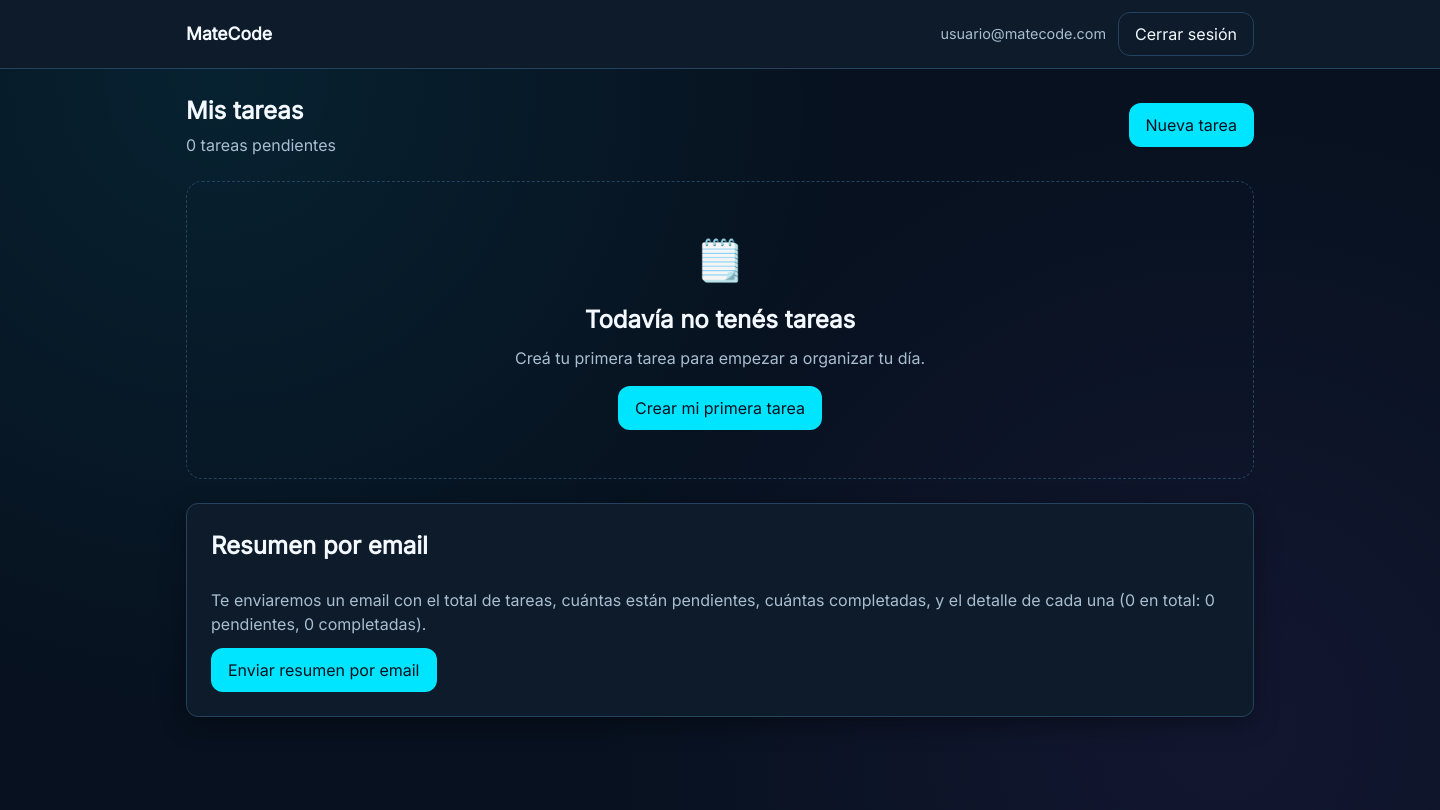
it: TasksPage › también abre el formulario desde el botón del estado vacío
This screenshot has width=1440, height=810.
Expected: the heading "Todavía no tenés tareas" is shown, x1=585 y1=305 x2=855 y2=334
Click the button "Crear mi primera tarea". click: x=720, y=408
box: x1=618 y1=386 x2=822 y2=430
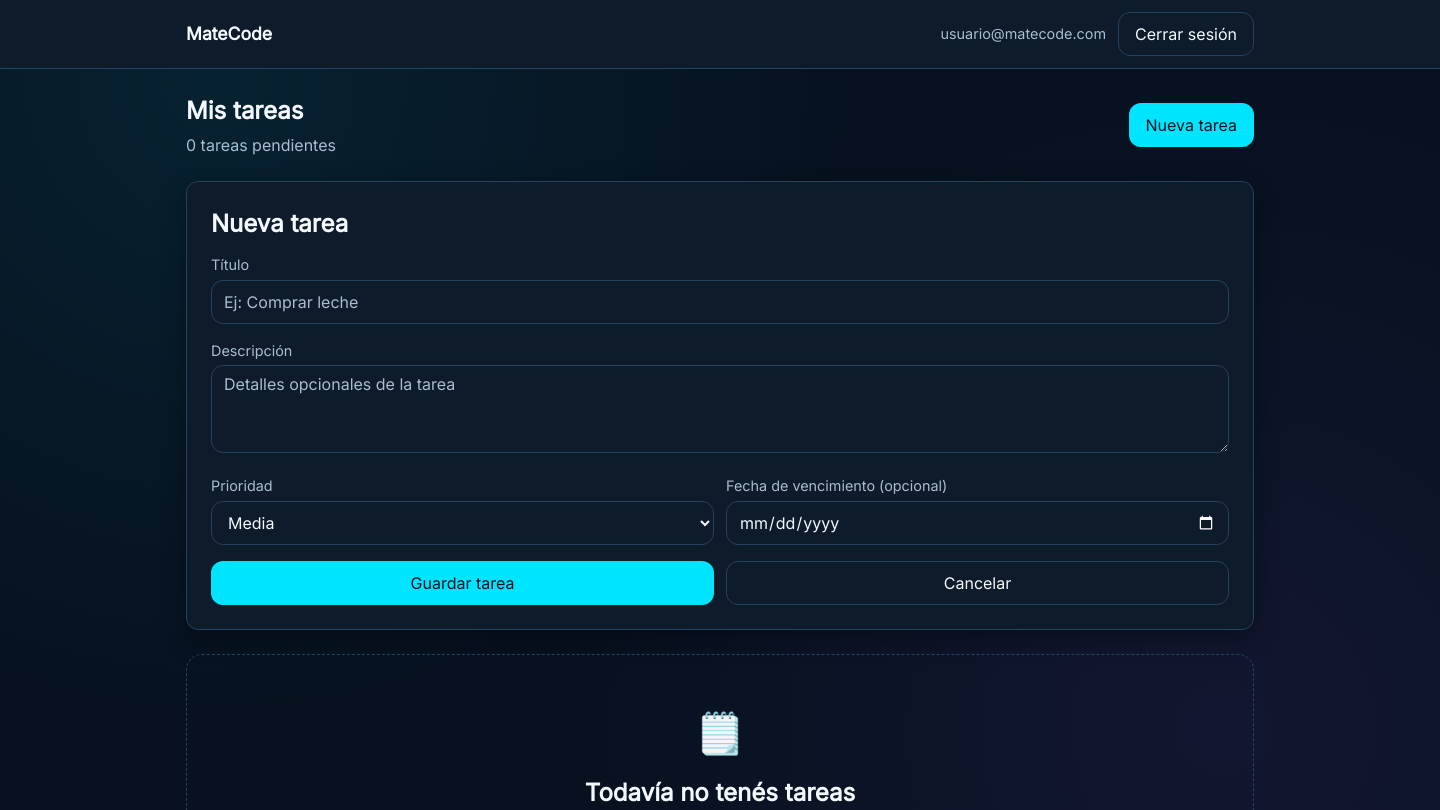
Result: the field labelled "Título" is shown at x1=211 y1=280 x2=1229 y2=324
